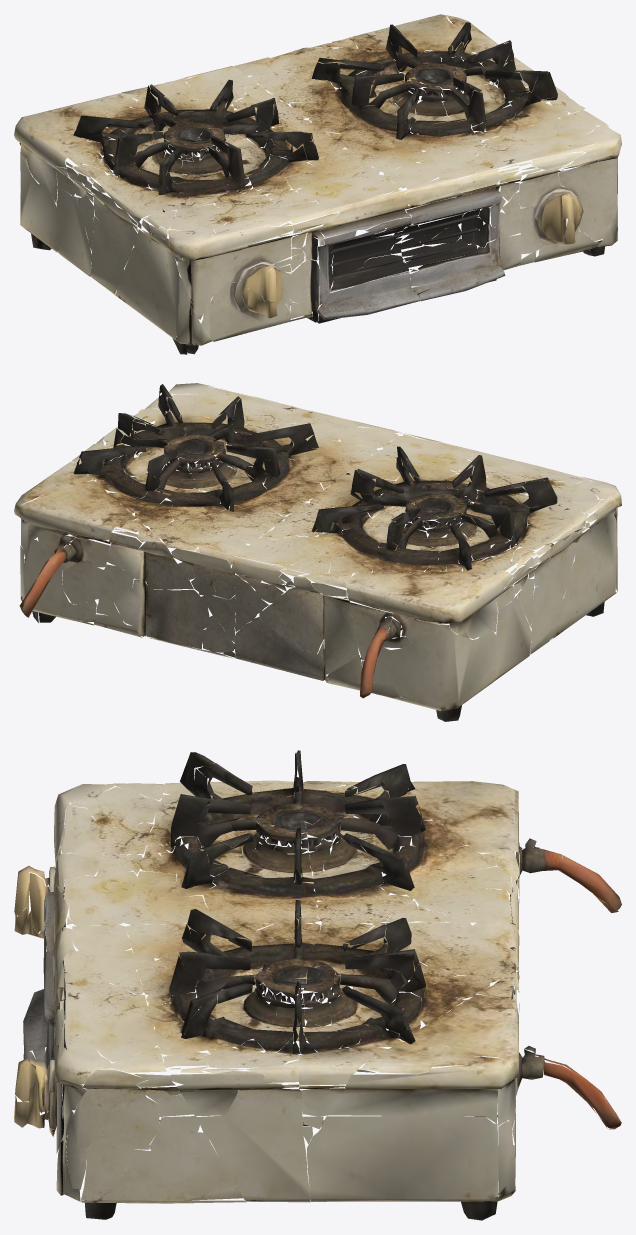
Rendered from gasstove_prop.glb.
3 views of the same model, one above another, from view 1: azimuth 30°, elevation 25°; view 2: azimuth 150°, elevation 25°; view 3: azimuth 270°, elevation 25° (orthographic). The views are drawn at different scales.
Visible parts, largest first — view 1: prop_gasstove; view 2: prop_gasstove; view 3: prop_gasstove.
Part boxes in pixels (x1=…): prop_gasstove: x1=14, y1=14, x2=621, y2=354; prop_gasstove: x1=14, y1=383, x2=621, y2=721; prop_gasstove: x1=14, y1=750, x2=621, y2=1220.
Size of the model in its own units: 0.9835 by 0.3358 by 0.8732.
Materials: 1 (1 with a texture image).
